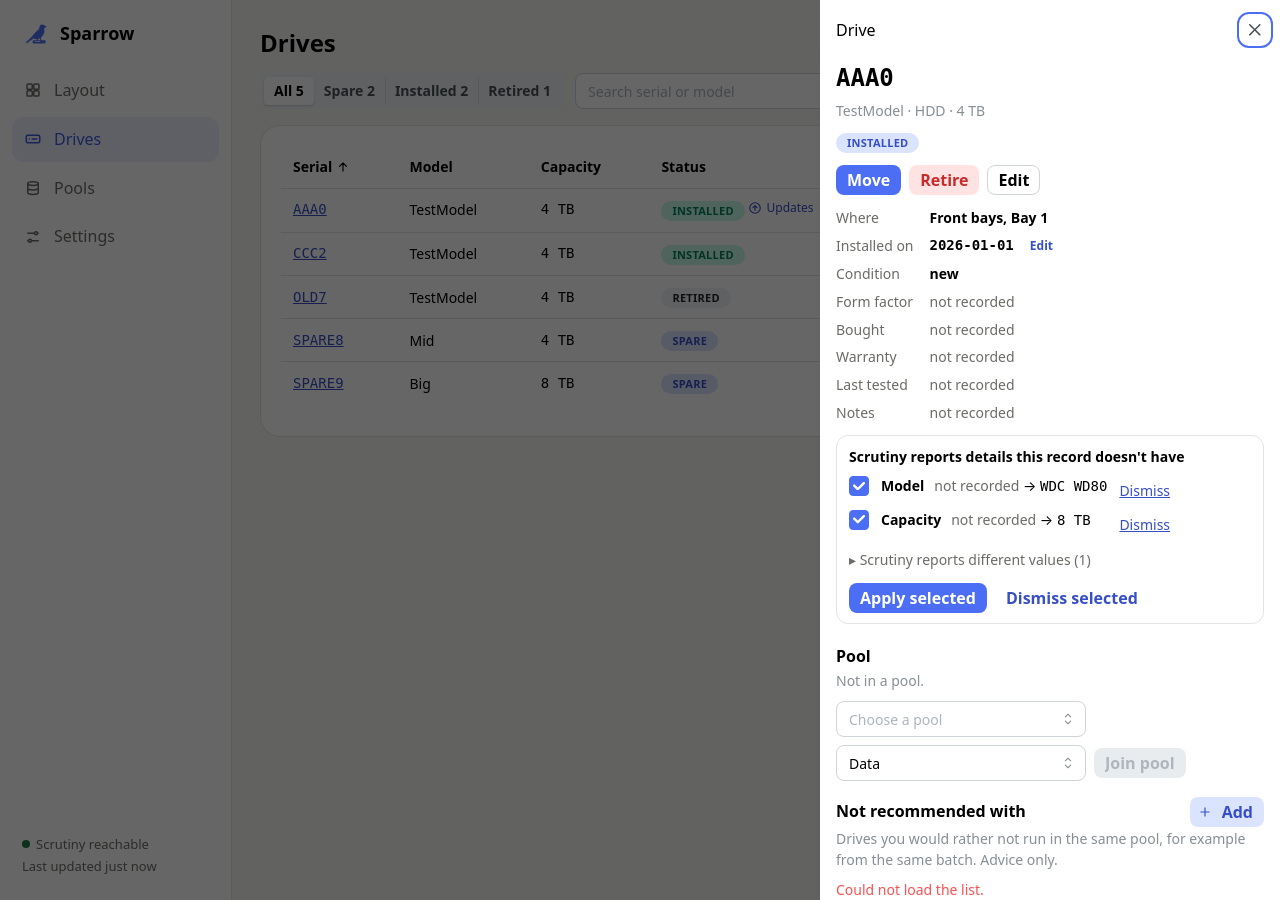
it: Suggested updates (R72) › R72: a failed apply (stale suggestion) shows the server message inline
The width and height of the screenshot is (1280, 900).
Click the button "Apply selected".
click(918, 598)  # box x1=849 y1=583 x2=987 y2=613
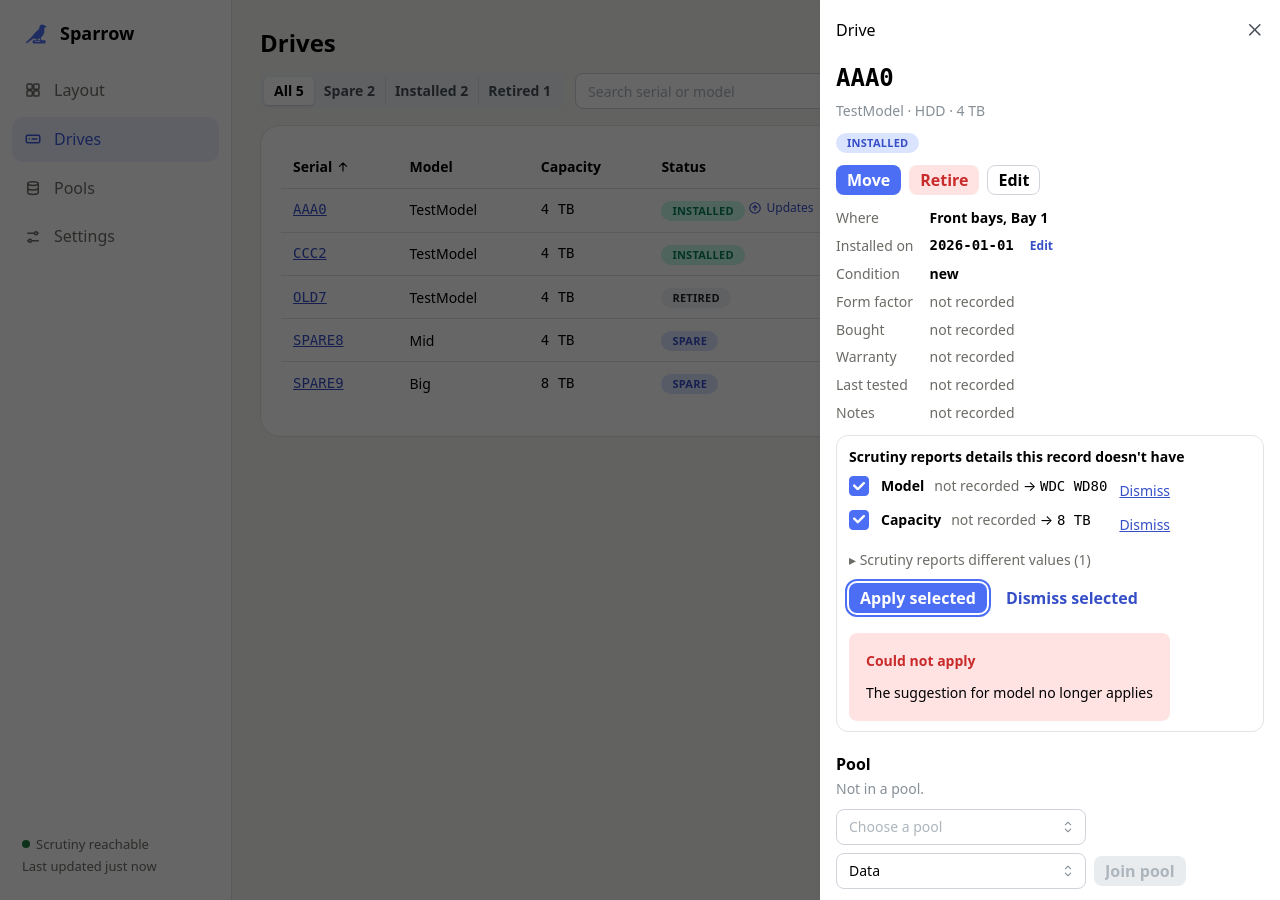
Expected: the message shows "no longer applies", x1=866 y1=683 x2=1153 y2=702
